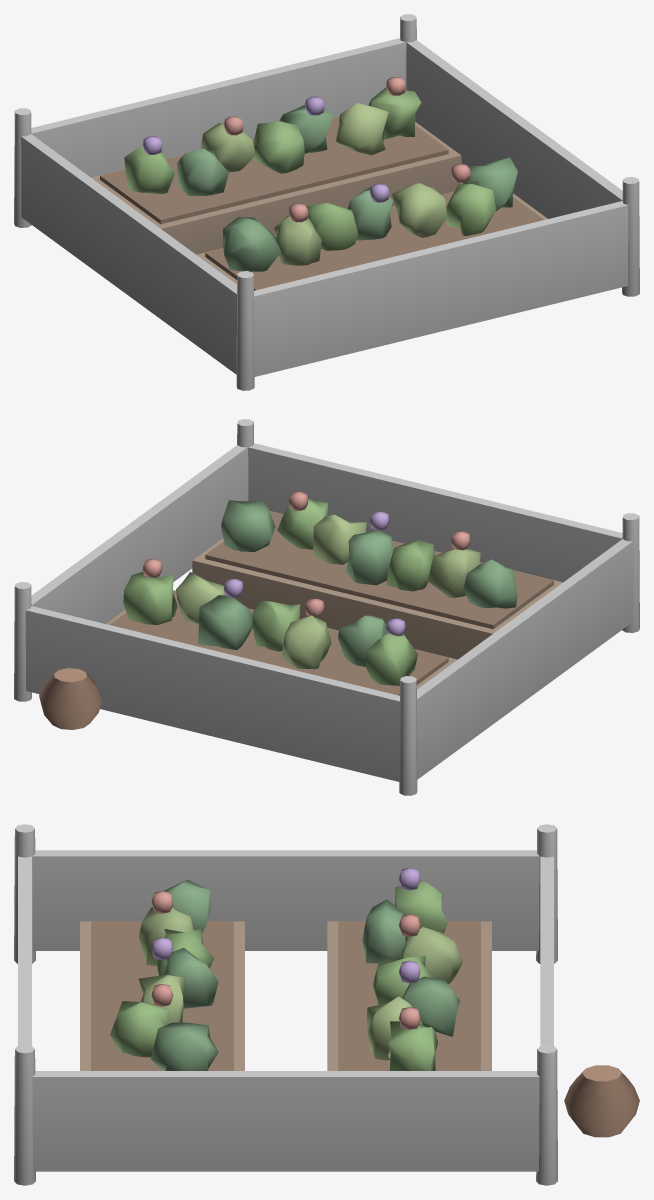
Rendered from hw_herb_garden.glb.
3 views of the same model, one above another, from view 1: azimuth 30°, elevation 25°; view 2: azimuth 150°, elevation 25°; view 3: azimuth 270°, elevation 25° (orthographic). The views are drawn at different scales.
Visible parts, largest first — view 1: Building; view 2: Building; view 3: Building.
Part boxes in pixels (x1,y1,x2,y2): Building: [14, 14, 639, 390]; Building: [14, 419, 639, 795]; Building: [14, 824, 639, 1185].
Size of the model in its own units: 1.98 by 0.53 by 2.28.
